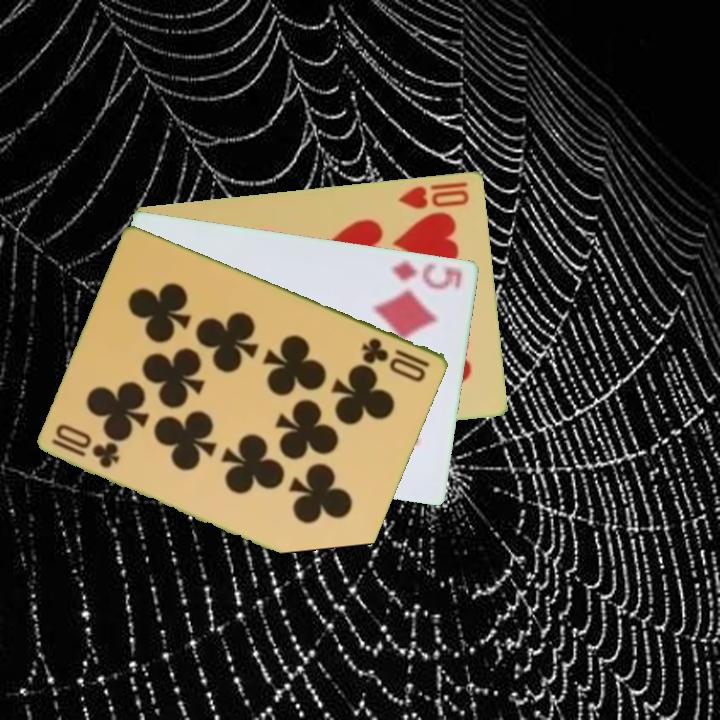10c: (358, 334, 433, 385), (48, 421, 123, 471)
10h: (395, 178, 473, 211)
5d: (388, 257, 465, 292)
